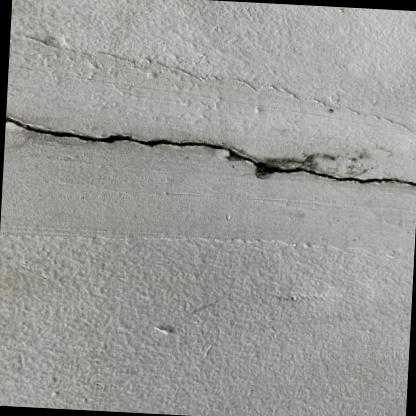crack: (4, 116, 416, 186)
